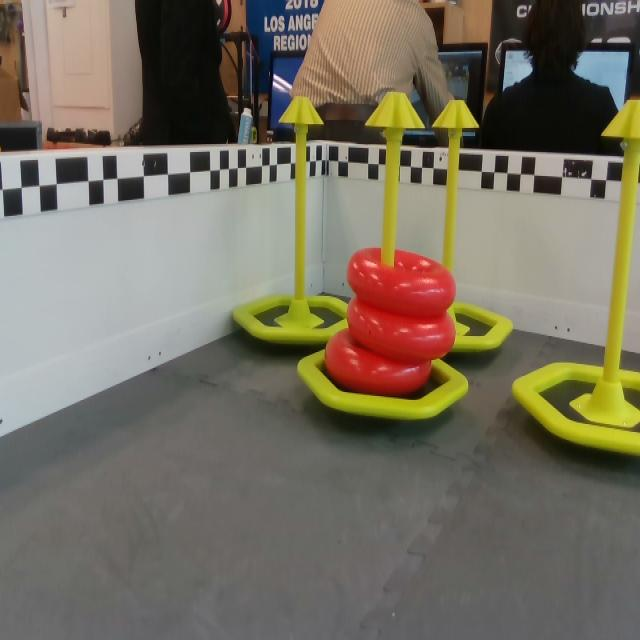Mobile-Goal: (296, 90, 471, 426), (512, 91, 639, 456), (231, 92, 361, 343), (419, 98, 517, 359)
Red-Ring: (343, 295, 460, 367), (346, 247, 459, 317), (324, 331, 431, 394)
Yellow-Stake-Head: (366, 90, 426, 130), (431, 99, 480, 132), (602, 100, 640, 142), (278, 96, 324, 128)
